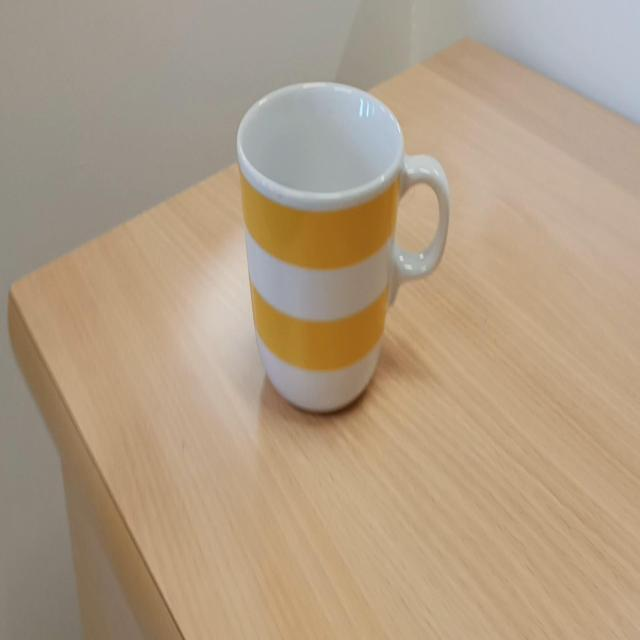cup: (232, 72, 452, 423)
